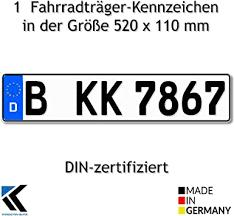6: (182, 79, 204, 116)
7: (135, 79, 158, 117), (204, 79, 226, 116)
8: (158, 79, 180, 117)
B: (26, 79, 50, 118)
K: (100, 80, 124, 117), (75, 79, 98, 116)
